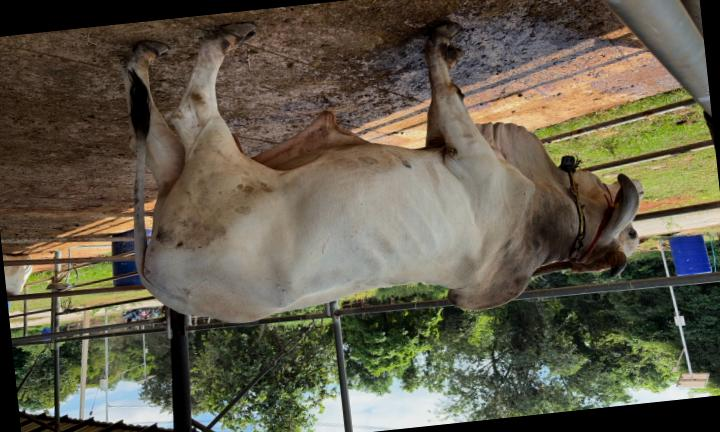Brahman: (120, 23, 641, 322)
